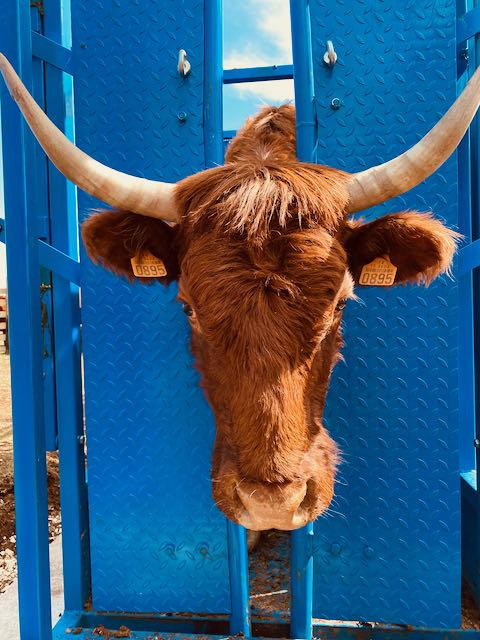muzzles: (213, 472, 333, 535)
